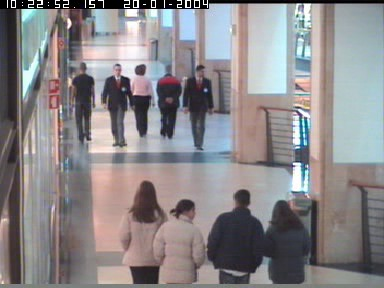person: (207, 188, 265, 284), (121, 180, 171, 284), (151, 198, 207, 284), (263, 199, 313, 284), (101, 63, 135, 147), (183, 64, 213, 149), (68, 63, 95, 143), (156, 66, 182, 139), (129, 64, 155, 136), (67, 16, 73, 53)
